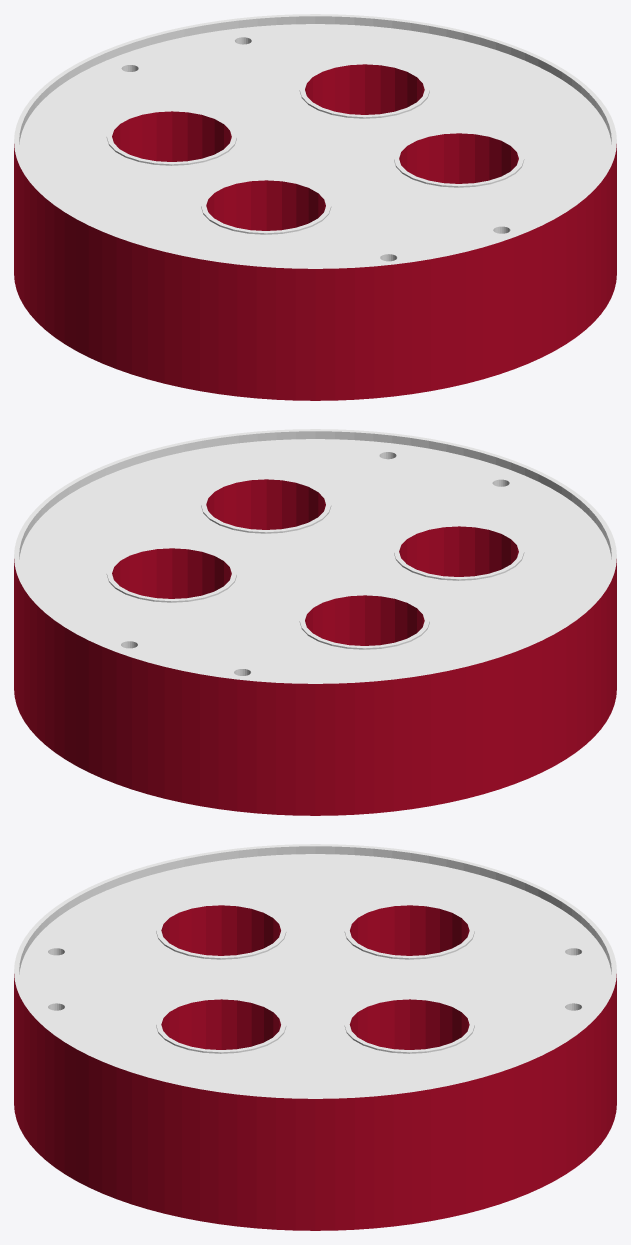
The model's file is TOP_colour_1.dae.
The picture shows the model from 3 angles, top to bottom: view 1: azimuth 30°, elevation 25°; view 2: azimuth 150°, elevation 25°; view 3: azimuth 270°, elevation 25°; orthographic projection.
Parts seen in each view (by area): view 1: TOP; view 2: TOP; view 3: TOP.
Boxes of the visible parts, <box> form: TOP: <box>14,14,616,400</box>; TOP: <box>14,429,616,815</box>; TOP: <box>14,844,616,1230</box>.
Size of the model in its own units: 0.352 by 0.352 by 0.085.
